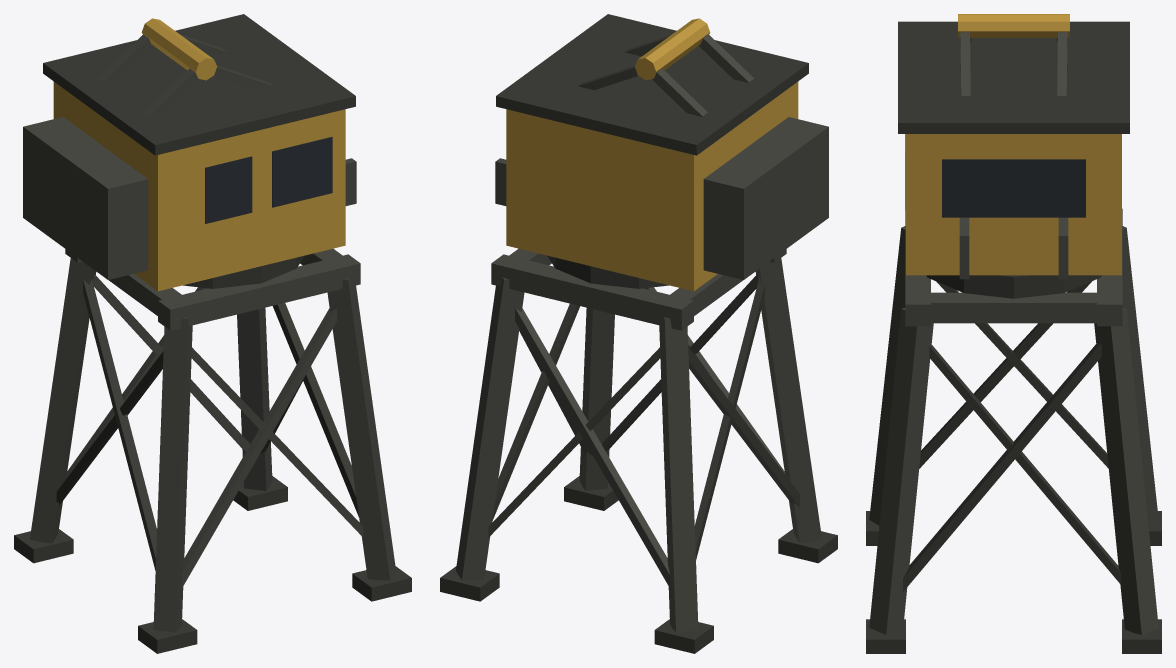
The model's file is crane_01.glb.
3 renders of one model, left to right at view 1: azimuth 30°, elevation 25°; view 2: azimuth 150°, elevation 25°; view 3: azimuth 270°, elevation 25°, orthographic. The views are drawn at different scales.
Parts seen in each view (by area): view 1: Crane_01; view 2: Crane_01; view 3: Crane_01.
Part boxes in pixels (box(x1,y1,x2,y2)): Crane_01: box(14, 14, 411, 653); Crane_01: box(440, 14, 837, 653); Crane_01: box(866, 14, 1161, 653).
Bounding box in the file's own units: 4.1 × 7.71 × 3.7.
